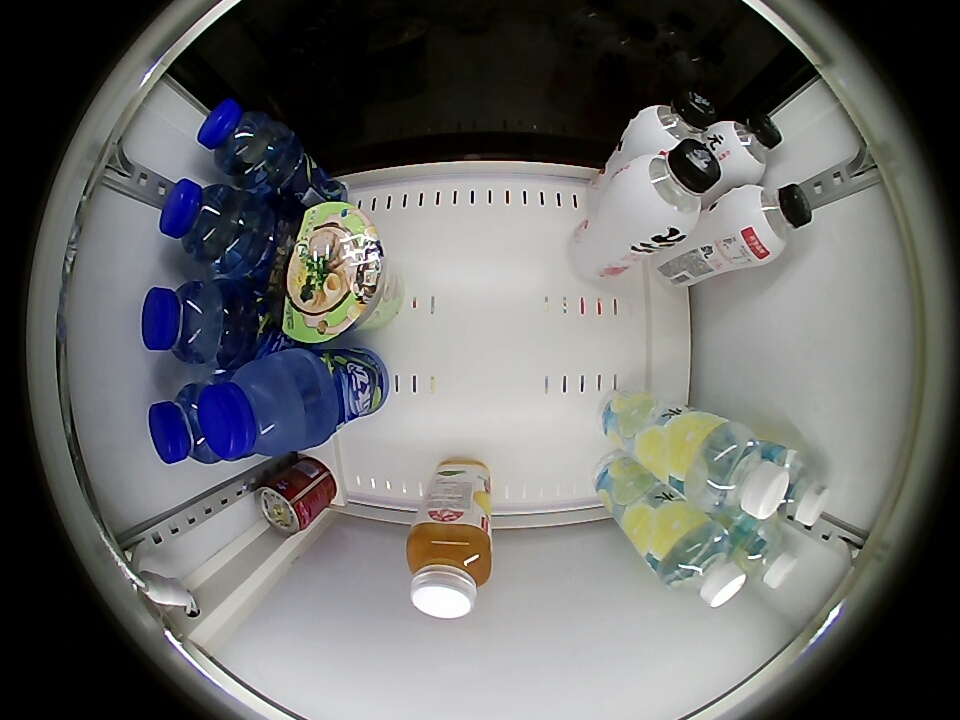chapai: (406, 519, 493, 619)
maidong: (199, 350, 323, 462), (157, 179, 262, 269), (196, 99, 290, 184), (141, 280, 231, 365), (148, 382, 232, 465)
qinningshui: (684, 420, 790, 520), (656, 518, 747, 608), (765, 449, 829, 527), (734, 521, 797, 589)
tangdaren: (266, 200, 387, 344)
wangzainiunai: (255, 467, 324, 535)
yuanqishui: (612, 139, 722, 243), (728, 182, 813, 261), (627, 88, 713, 155), (710, 111, 783, 184)
